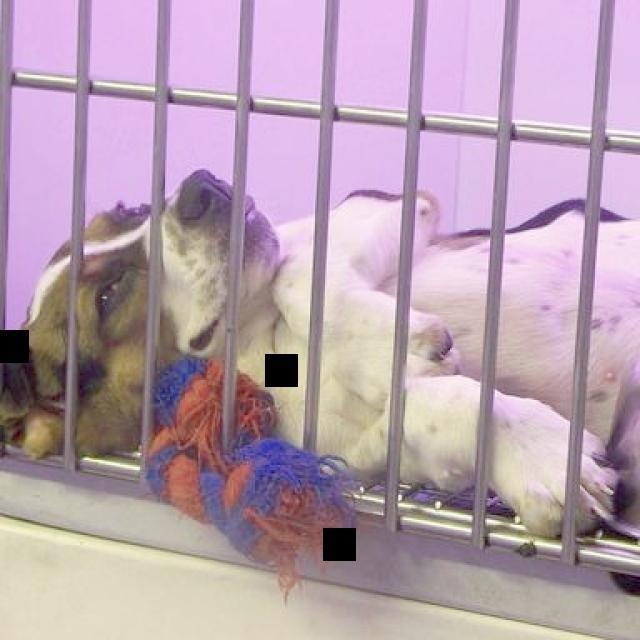adult_dog: (2, 170, 640, 540)
